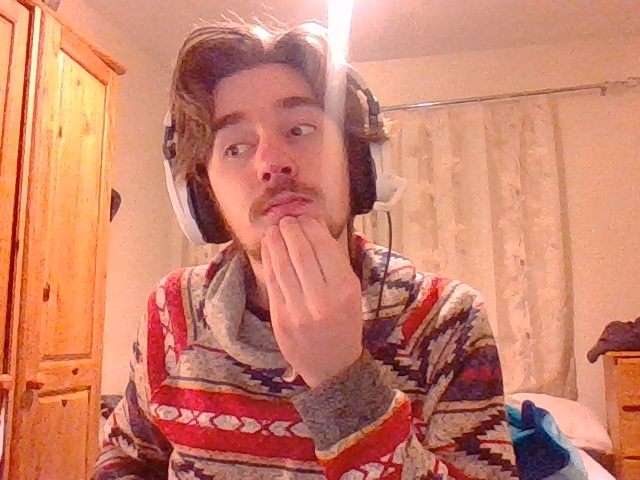thanks: (260, 218, 364, 380)
